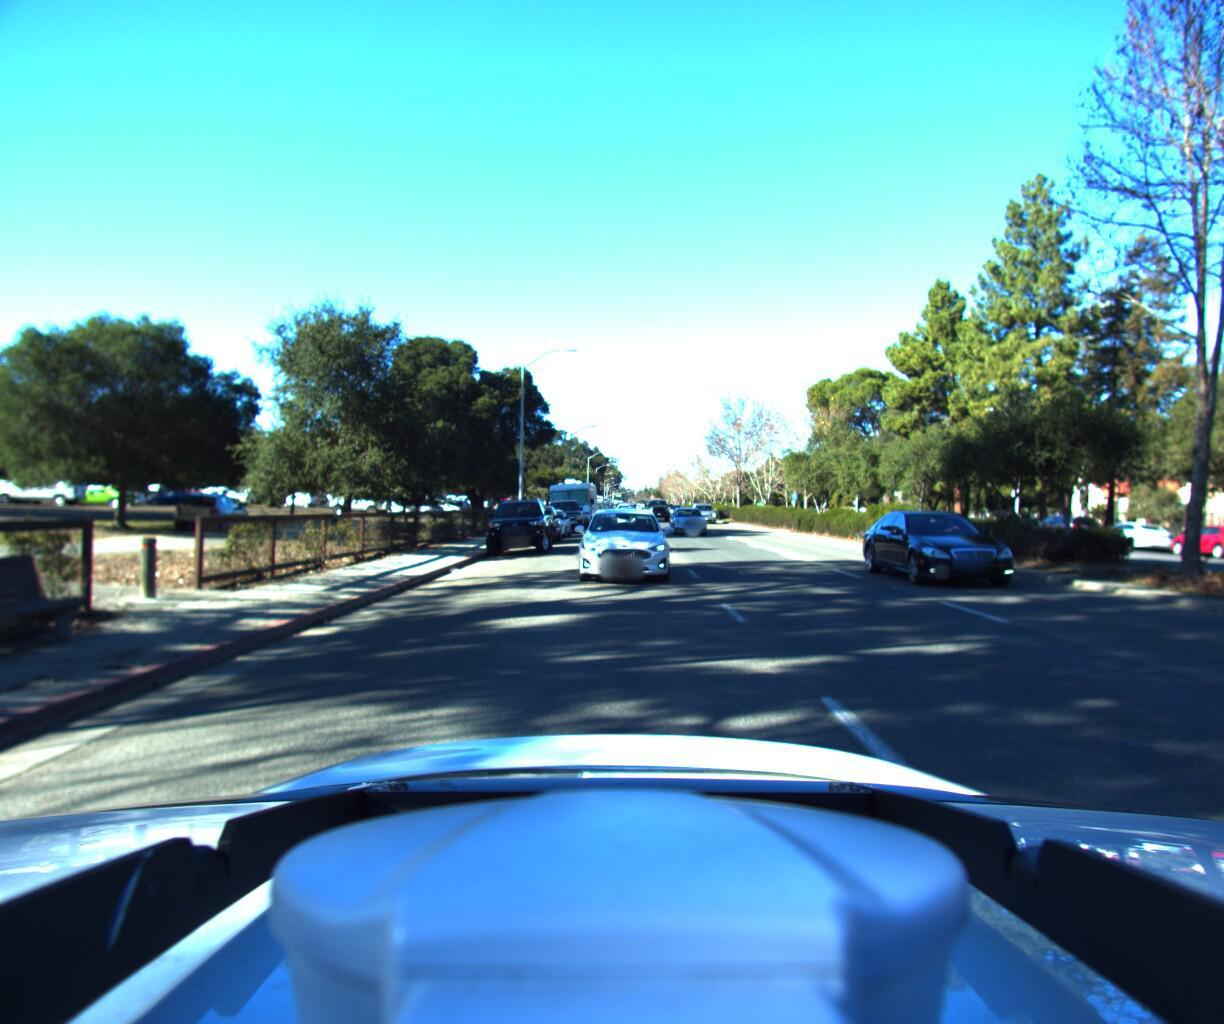car: (874, 502, 1072, 599), (578, 506, 672, 591), (482, 496, 554, 557), (1090, 517, 1182, 554), (1162, 520, 1224, 564), (1028, 513, 1103, 545), (508, 504, 563, 546), (668, 501, 710, 538), (543, 498, 583, 535), (525, 509, 571, 540), (411, 497, 467, 518), (694, 504, 724, 525), (648, 504, 672, 522)
other_vehicle: (542, 477, 600, 529)
